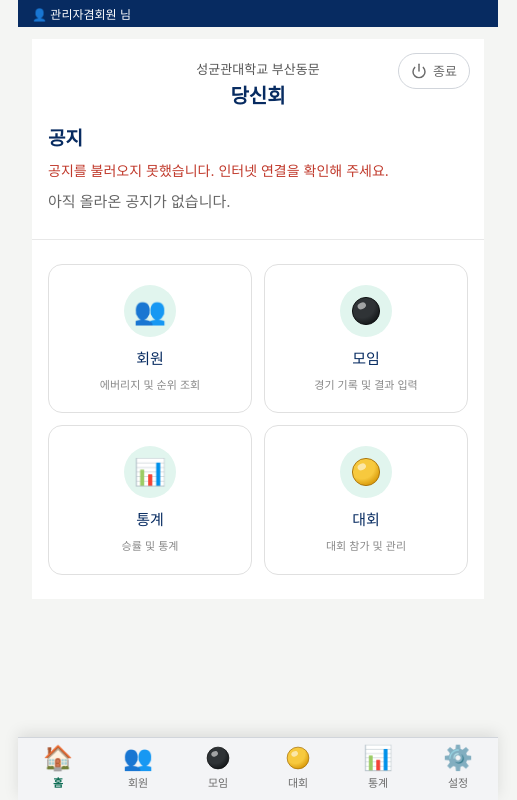
Test case: 실제 재현 — 설정 탭에서 관리자 PIN 입력 직후 상태 전이 › 앱 부팅 → 설정 탭 → PIN → Firebase 게이트 → 이메일 로그인 → 관리자 화면까지 안정적으로 끝난다(깜빡임 없음)
Expected: the text "👤 관리자겸회원 님" is shown, [32,5,131,22]
② 설정 탭 이동
Click the text "설정" at x=458, y=782, box [448,774,468,790]
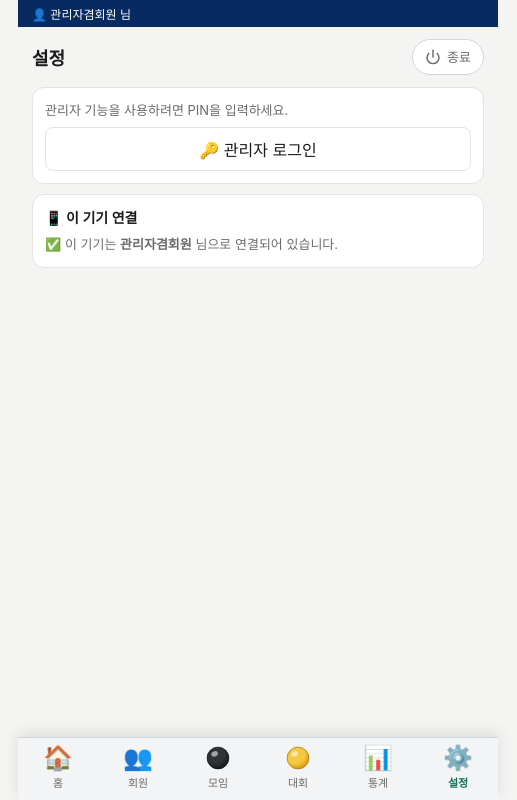
Now the button "🔑 관리자 로그인" is shown
③ "관리자 로그인" 선택 → PIN 입력 폼 노출
Click the button "🔑 관리자 로그인" at x=258, y=149, box [45,127,471,171]
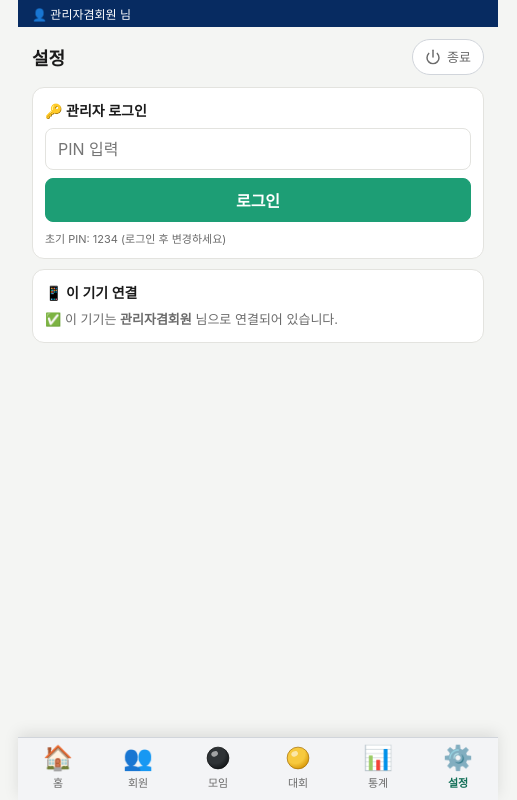
Now the password field with placeholder "PIN 입력" is shown
Type "1234" into the password field with placeholder "PIN 입력" at x=258, y=149, box [45,128,471,170]
Click the button "로그인" at x=258, y=200, box [45,178,471,222]
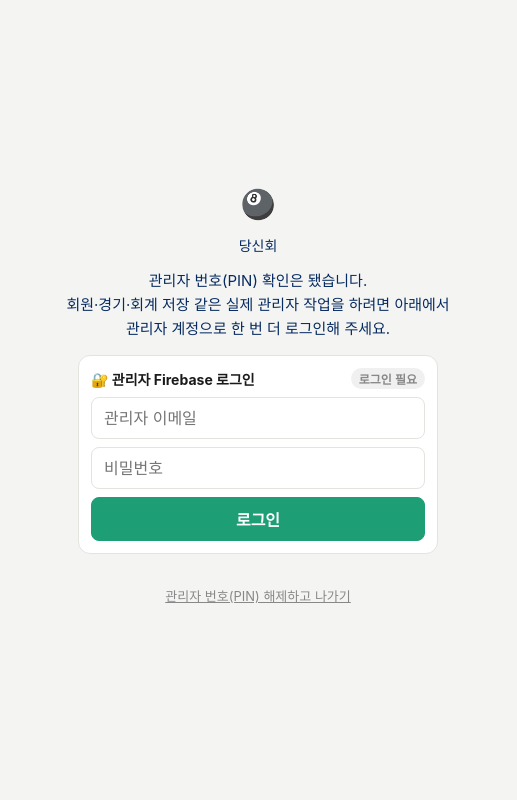
Now the text "관리자 계정으로 한 번 더 로그인해 주세요" is shown, box [126,319,390,338]
Now the text "👤 관리자겸회원 님" is gone
Now the heading "설정" is gone
⑤ Firebase 관리자 이메일/비밀번호 로그인
Type "admin@example.test" into the field with placeholder "관리자 이메일" at x=258, y=418, box [91,397,425,439]
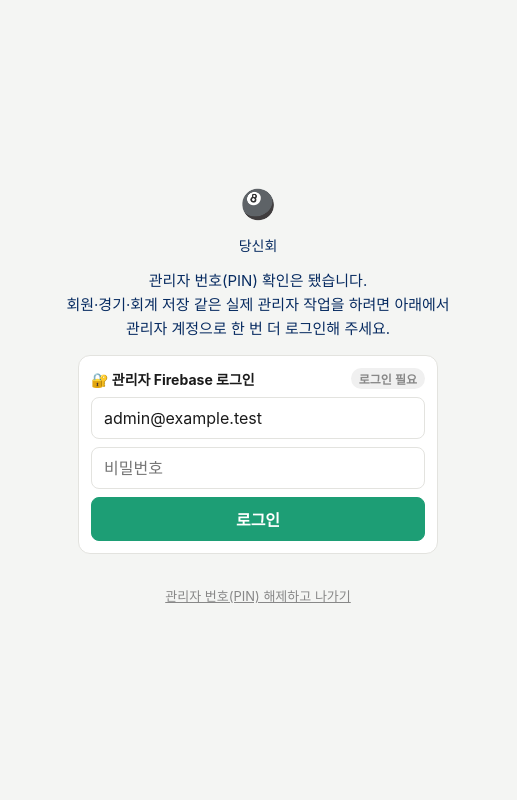
Type "correct-password" into the password field with placeholder "비밀번호" at x=258, y=468, box [91,447,425,489]
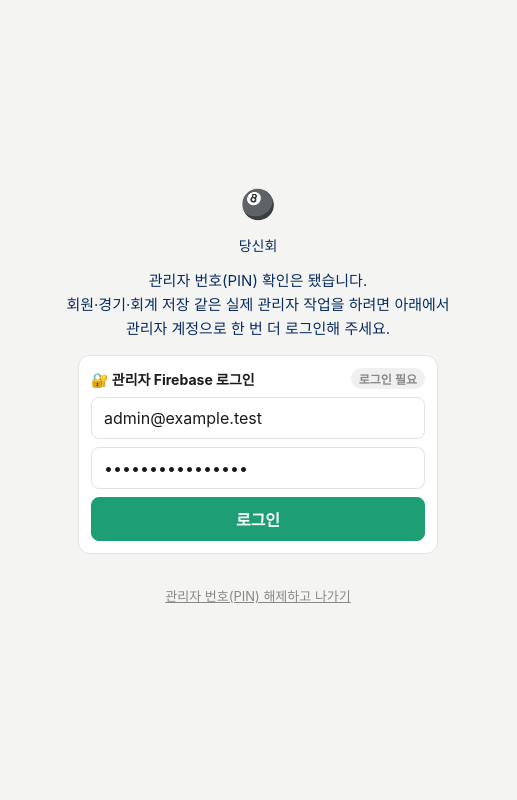
Click the button "로그인" at x=258, y=519, box [91,497,425,541]
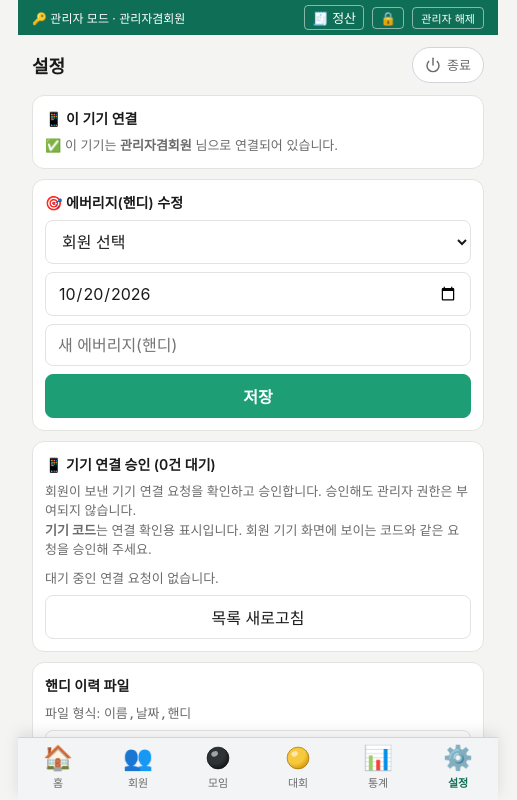
Now the text "🔑 관리자 모드 · 관리자겸회원" is shown, box [32,9,185,26]
Now the text "관리자 계정으로 한 번 더 로그인해 주세요" is gone
